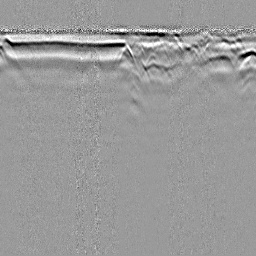cavity: (117, 44, 137, 67)
